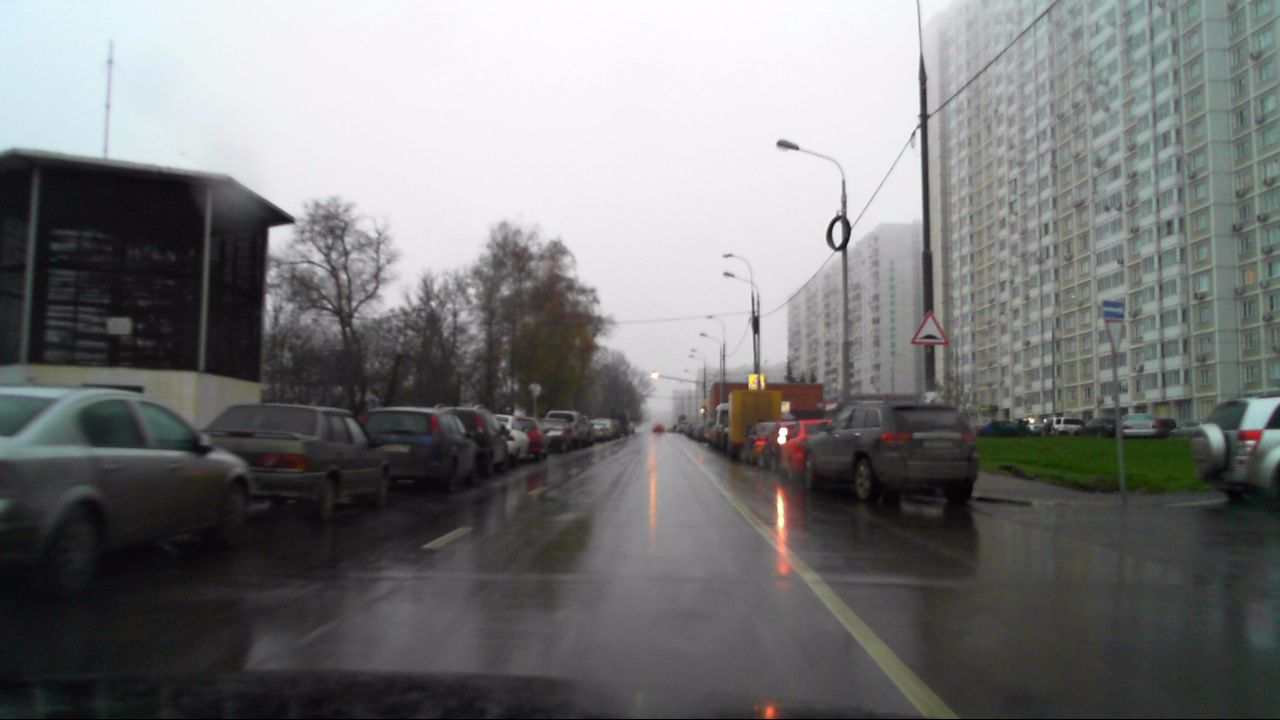One-Way Traffic: (1104, 300, 1126, 318)
